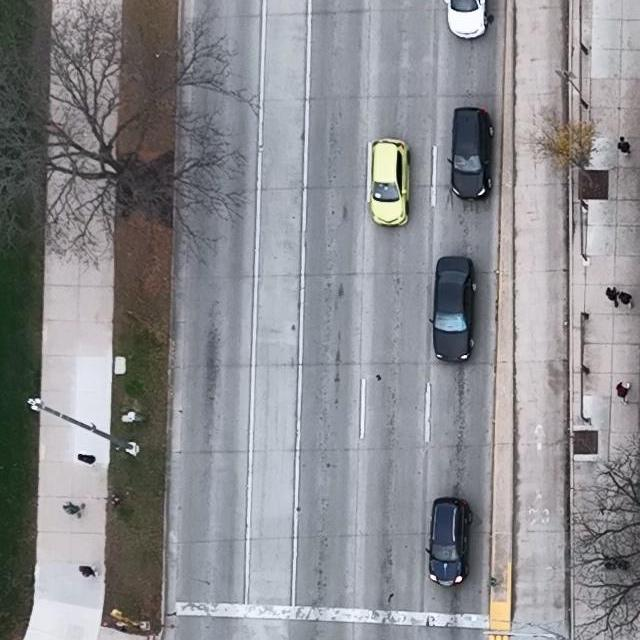car: (429, 255, 477, 364), (424, 496, 472, 589), (446, 108, 494, 200), (368, 138, 411, 227), (443, 0, 489, 39)
